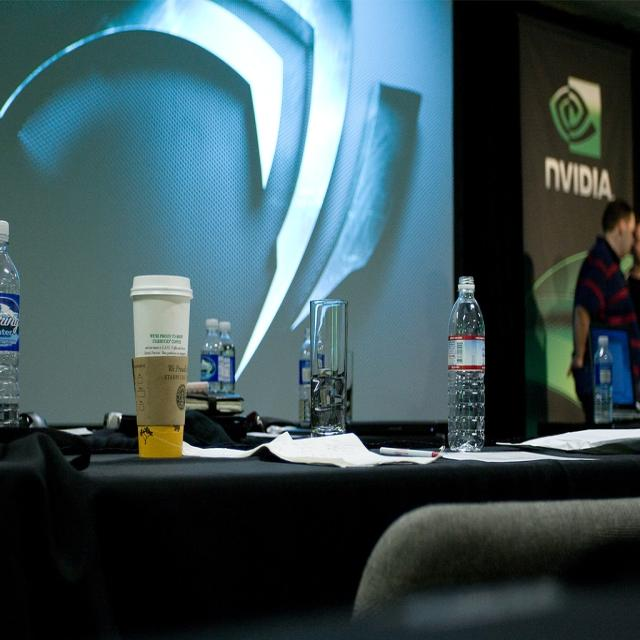nvidia: (548, 77, 603, 160)
